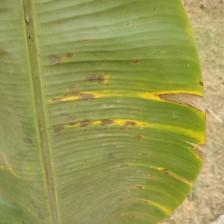pestalotiopsis: (0, 0, 207, 224)
